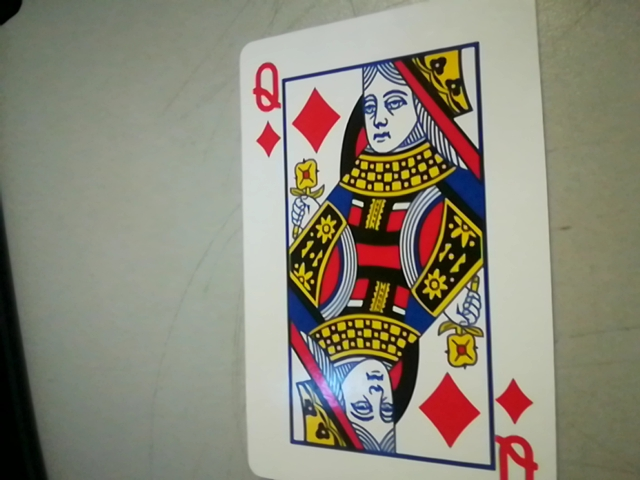fk q: (483, 373, 551, 480), (243, 54, 293, 159)
